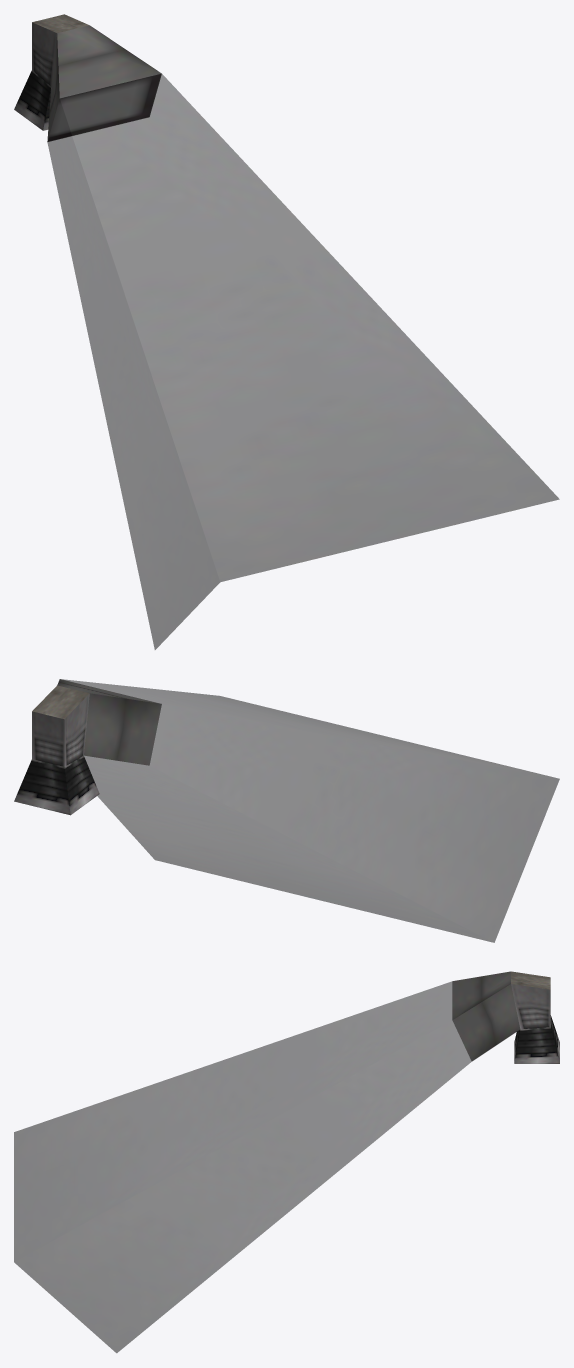
The model's file is prop-062.glb.
3 renders of one model, top to bottom at view 1: azimuth 30°, elevation 25°; view 2: azimuth 150°, elevation 25°; view 3: azimuth 270°, elevation 25°, orthographic. The views are drawn at different scales.
Visible parts, largest first — view 1: root; view 2: root; view 3: root.
Part boxes in pixels (<box>): root: <box>14,14,559,649</box>; root: <box>14,679,559,942</box>; root: <box>14,971,559,1352</box>.
Size of the model in its own units: 1.49 by 1.66 by 2.64.
Materials: 2 (2 with a texture image).
